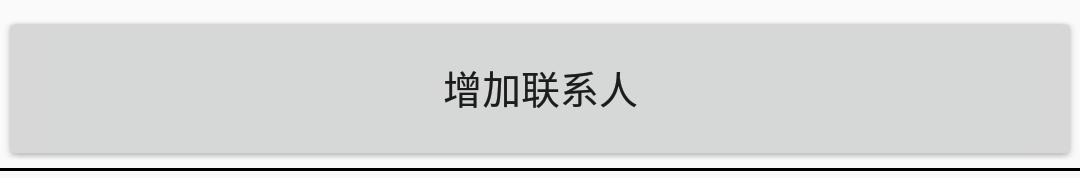Button: (1, 1, 1079, 177)
